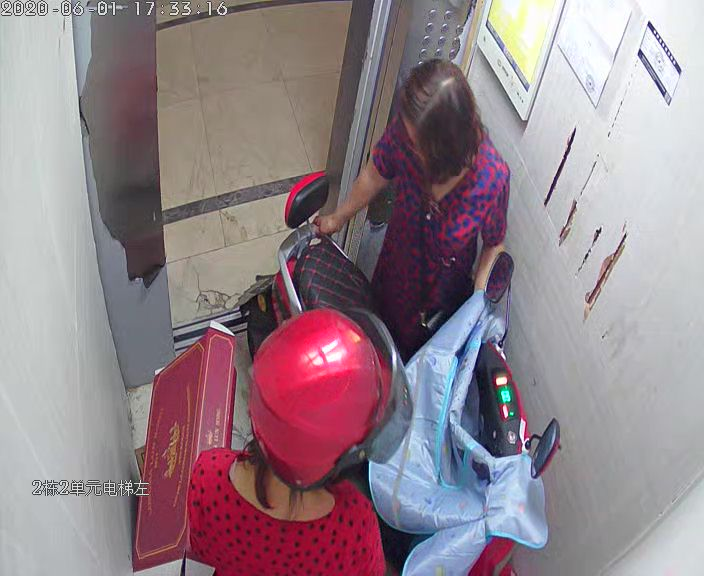Electric-bicycle: (243, 172, 561, 574)
